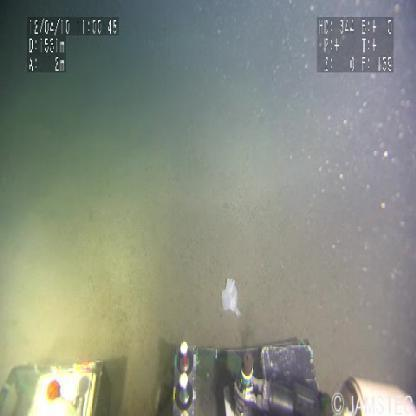Rác: (220, 275, 245, 321)
